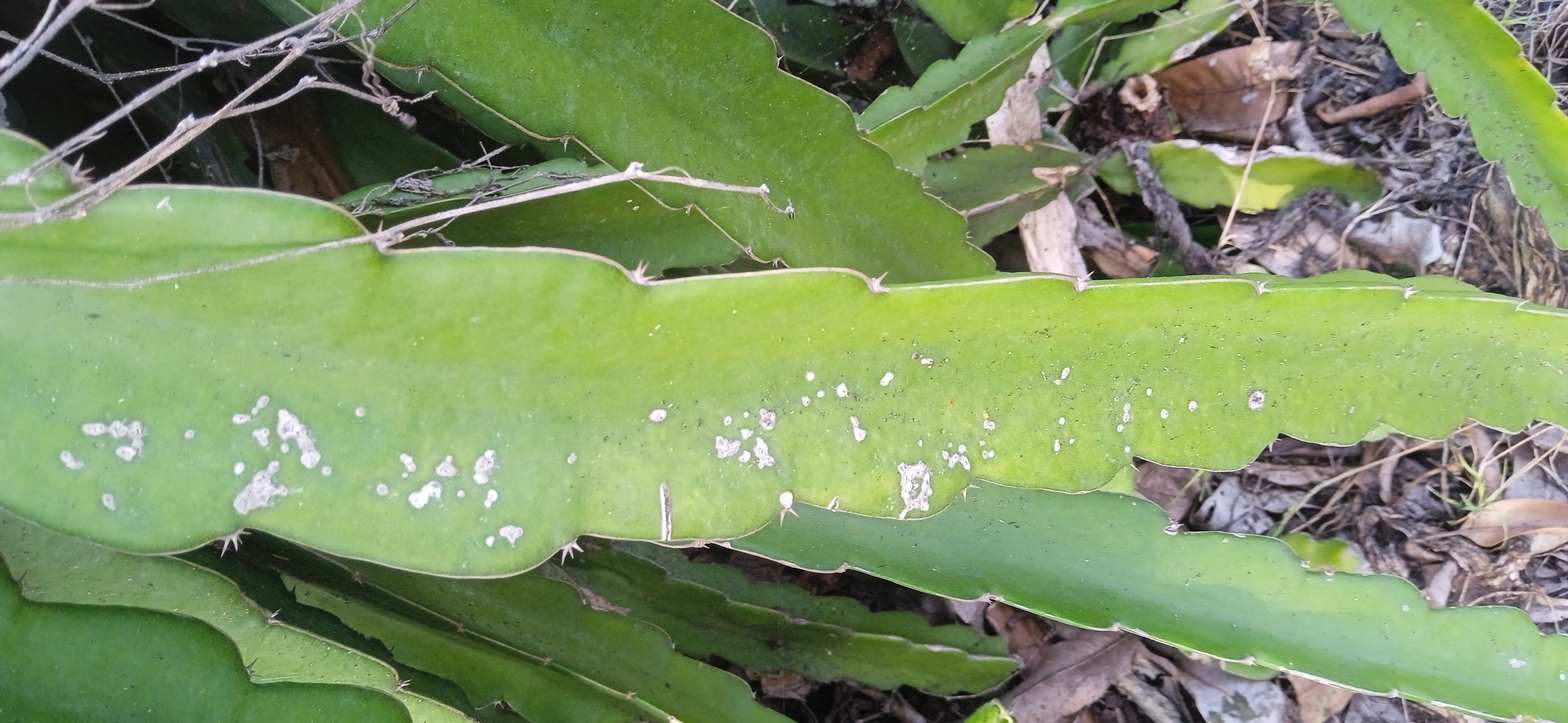stemcanker: (1, 214, 1568, 587)
